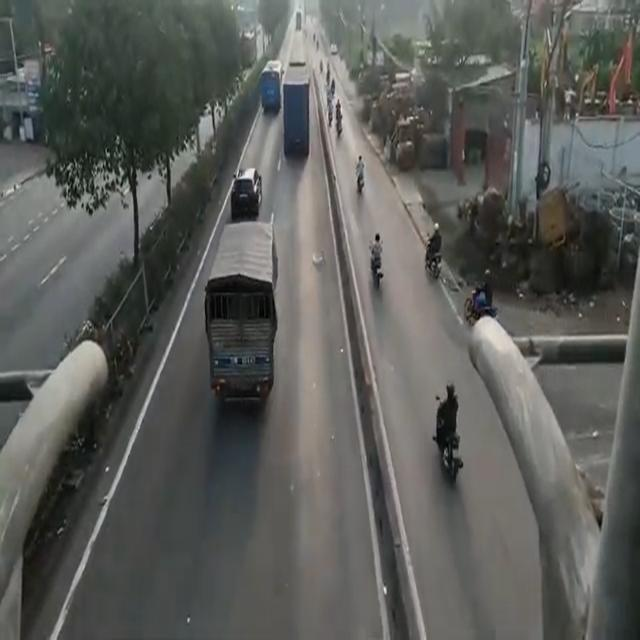bus: (259, 64, 280, 119)
car: (230, 165, 262, 222)
motor: (434, 386, 461, 480), (367, 236, 386, 298), (355, 153, 370, 199), (427, 228, 439, 279)
truck: (210, 220, 272, 410), (282, 60, 312, 159)
